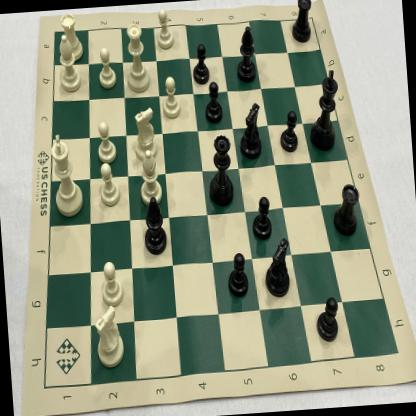bishop: (262, 234, 295, 303), (138, 193, 172, 256), (230, 22, 262, 88), (236, 100, 265, 162), (55, 33, 84, 95), (136, 148, 164, 207)
king: (46, 130, 90, 221), (302, 64, 344, 155)
knight: (92, 304, 130, 372), (130, 105, 159, 164)
pawn: (313, 292, 342, 346), (223, 250, 252, 302), (98, 258, 126, 311), (248, 194, 276, 245), (96, 160, 122, 211), (93, 118, 119, 168), (276, 106, 301, 156), (160, 74, 184, 124), (94, 44, 119, 92), (187, 42, 213, 88), (201, 79, 224, 127), (154, 5, 176, 54)
queen: (120, 18, 154, 97), (205, 132, 238, 212)
rook: (329, 180, 364, 240), (287, 0, 318, 49), (58, 9, 86, 63)
